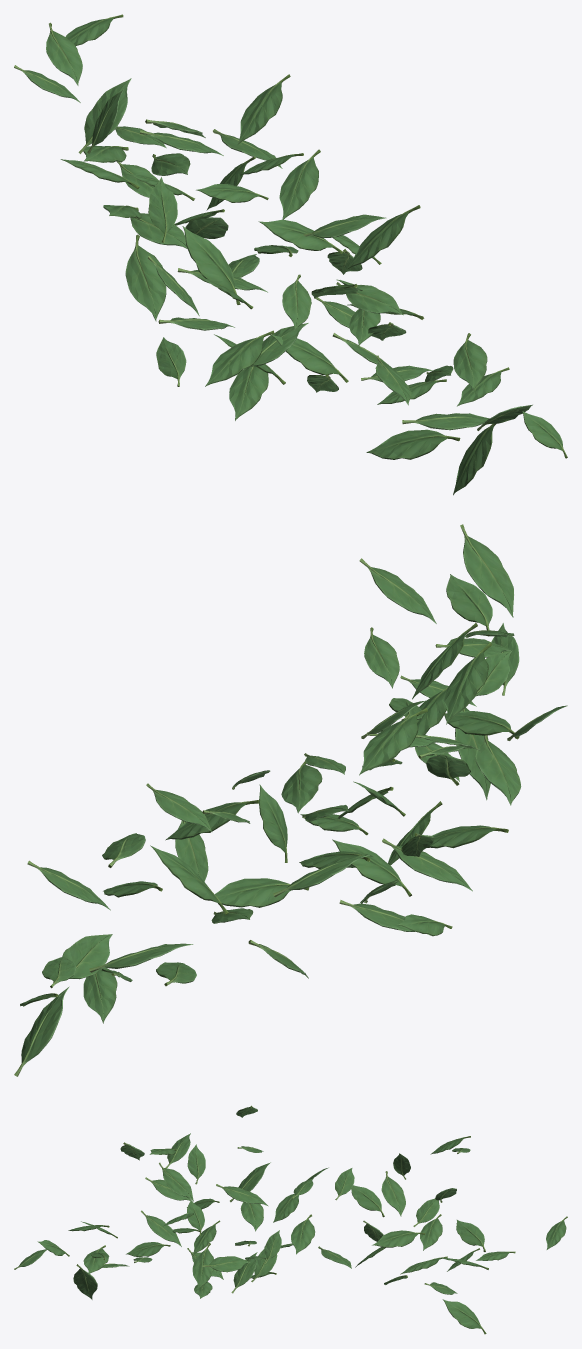
File: holy_canopy4_complete.glb
3 renders of one model, top to bottom at view 1: azimuth 30°, elevation 25°; view 2: azimuth 150°, elevation 25°; view 3: azimuth 270°, elevation 25°, orthographic. The views are drawn at different scales.
Parts seen in each view (by area): view 1: holy_canopy4; view 2: holy_canopy4; view 3: holy_canopy4.
Boxes of the visible parts, left/top/right/bottom form: holy_canopy4: left=14, top=14, right=567, bottom=495; holy_canopy4: left=14, top=524, right=567, bottom=1076; holy_canopy4: left=14, top=1105, right=567, bottom=1334.
Size of the model in its own units: 10.23 by 11.1 by 28.03.
1 material, 1 textured.
